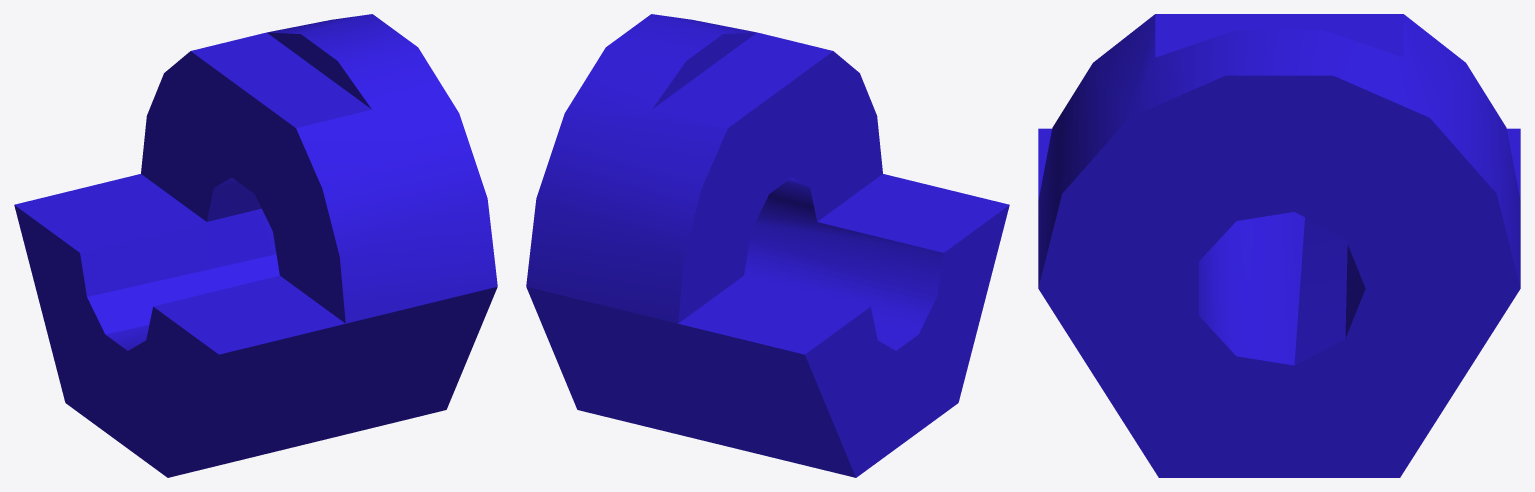
The model's file is tut3qn1a.gltf.
3 views of the same model, side by side, from view 1: azimuth 30°, elevation 25°; view 2: azimuth 150°, elevation 25°; view 3: azimuth 270°, elevation 25° (orthographic). The views are drawn at different scales.
Parts seen in each view (by area): view 1: tut3qn1a(new); view 2: tut3qn1a(new); view 3: tut3qn1a(new).
Boxes of the visible parts, x1,y1,x2,y2 form: tut3qn1a(new): (14,14,497,477); tut3qn1a(new): (526,14,1009,477); tut3qn1a(new): (1038,14,1520,477).
Size of the model in its own units: 5.5 by 6.47 by 7.
